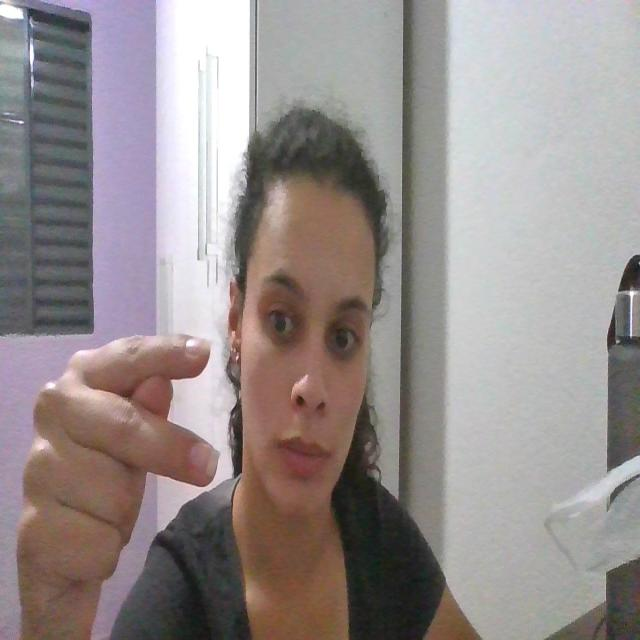P: (17, 309, 227, 617)
